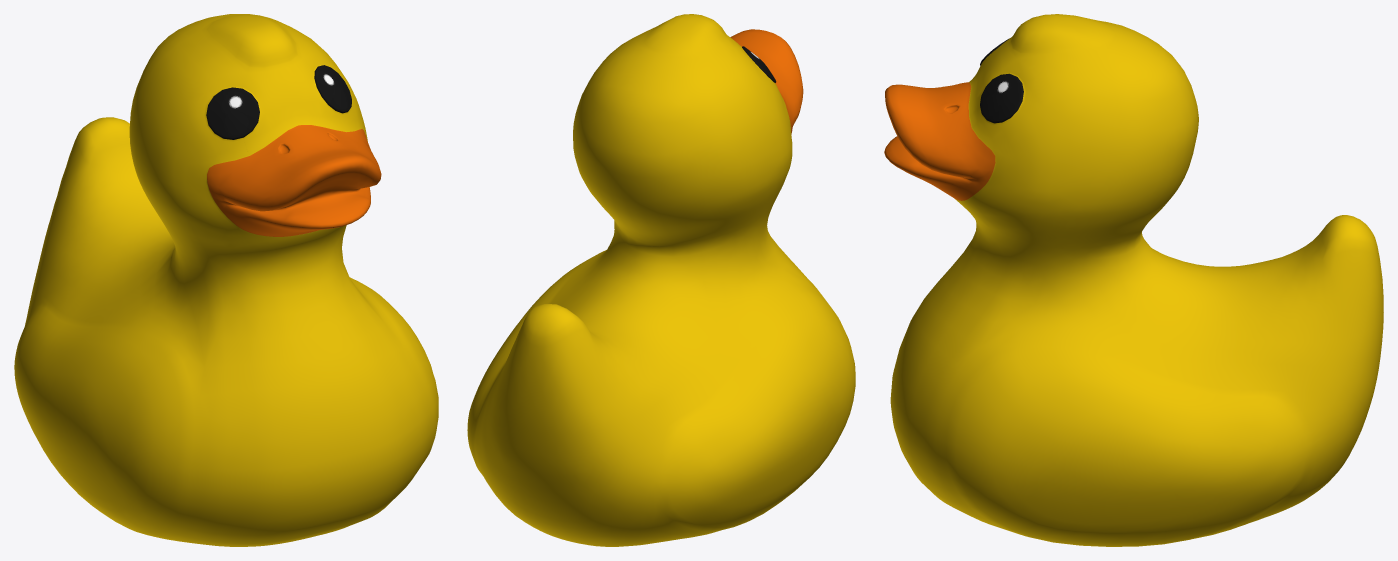
File: duck.gltf
3 views of the same model, side by side, from view 1: azimuth 30°, elevation 25°; view 2: azimuth 150°, elevation 25°; view 3: azimuth 270°, elevation 25° (orthographic). The views are drawn at different scales.
Size of the model in its own units: 0.725 by 1.05 by 0.9954.
